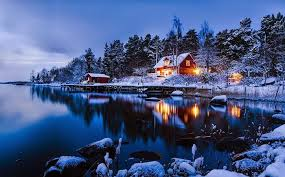mountain: (71, 36, 285, 91)
sea: (1, 85, 268, 164)
sky: (2, 3, 132, 79)
